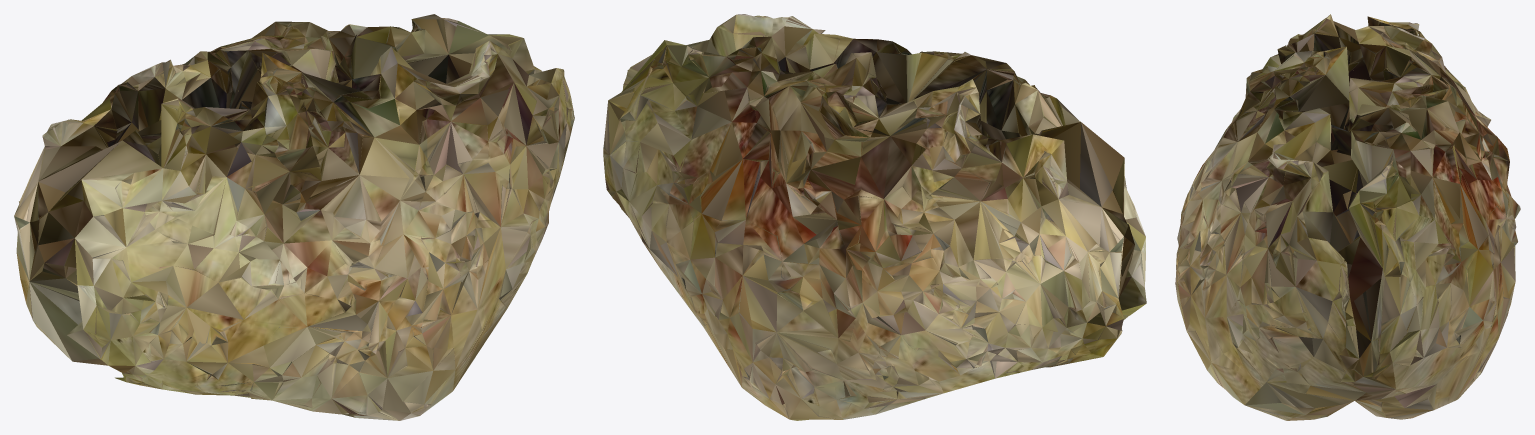
Rendered from tridacna.glb.
The picture shows the model from 3 angles, left to right: view 1: azimuth 30°, elevation 25°; view 2: azimuth 150°, elevation 25°; view 3: azimuth 270°, elevation 25°; orthographic projection. The views are drawn at different scales.
Parts seen in each view (by area): view 1: prop; view 2: prop; view 3: prop.
Boxes of the visible parts, bbox=[...] form: prop: bbox=[14, 14, 574, 420]; prop: bbox=[603, 14, 1146, 420]; prop: bbox=[1175, 14, 1520, 420].
Size of the model in its own units: 0.9978 by 0.6526 by 0.6151.
Materials: 4 (4 with a texture image).
